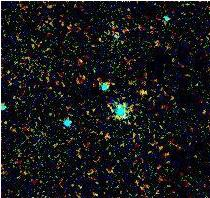star: (126, 76, 156, 106)
